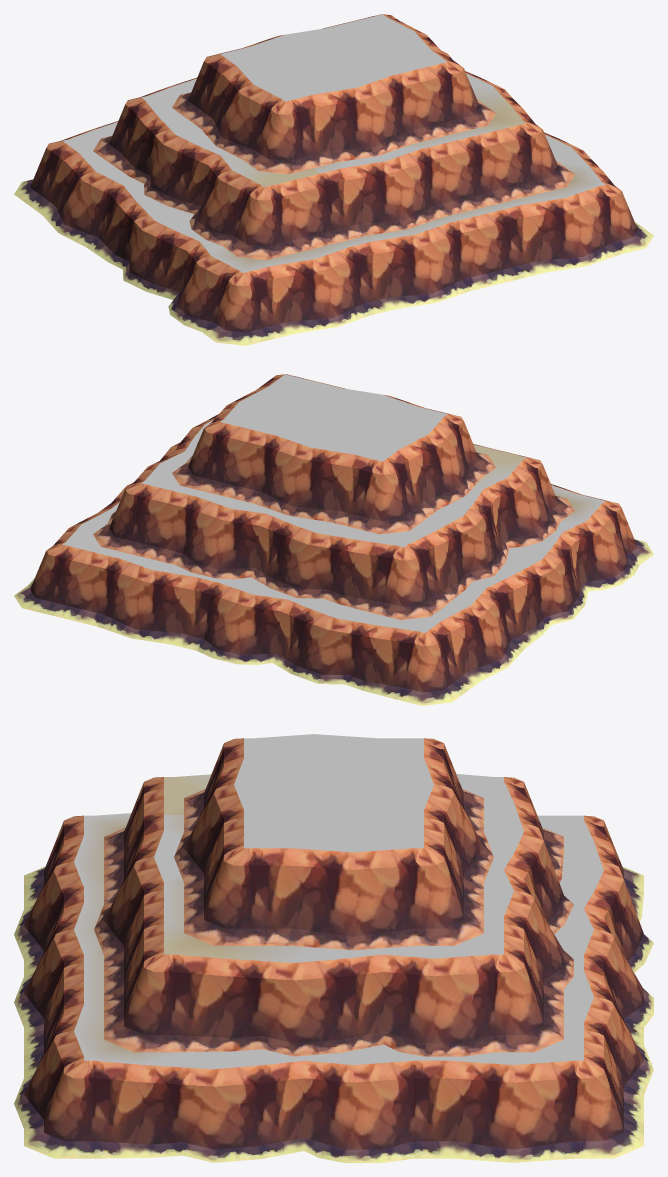
Rendered from r111_bm_regiruin01.dae.
The picture shows the model from 3 angles, top to bottom: view 1: azimuth 30°, elevation 25°; view 2: azimuth 150°, elevation 25°; view 3: azimuth 270°, elevation 25°; orthographic projection. The views are drawn at different scales.
Parts seen in each view (by area): view 1: regiruin_regiruin_cave_on_3_0_node, regiruin_regiruin_cave_on_2_0_node; view 2: regiruin_regiruin_cave_on_3_0_node, regiruin_regiruin_cave_on_2_0_node; view 3: regiruin_regiruin_cave_on_3_0_node, regiruin_regiruin_cave_on_2_0_node.
Part boxes in pixels (box(x1,y1,x2,y2)): regiruin_regiruin_cave_on_3_0_node: box(14, 14, 653, 345); regiruin_regiruin_cave_on_2_0_node: box(63, 14, 605, 272); regiruin_regiruin_cave_on_3_0_node: box(14, 374, 653, 705); regiruin_regiruin_cave_on_2_0_node: box(62, 374, 604, 632); regiruin_regiruin_cave_on_3_0_node: box(14, 738, 653, 1162); regiruin_regiruin_cave_on_2_0_node: box(74, 734, 603, 1069).
Size of the model in its own units: 162 by 144 by 54.
